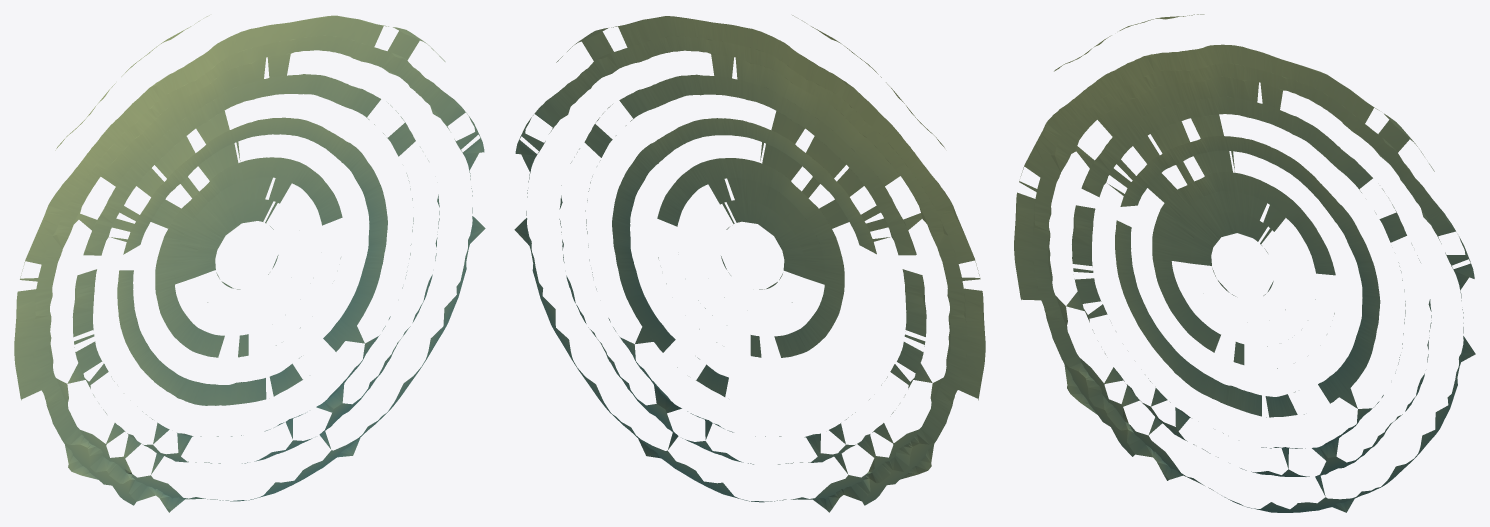
The model's file is iith-low-slope.glb.
The picture shows the model from 3 angles, left to right: view 1: azimuth 30°, elevation 25°; view 2: azimuth 150°, elevation 25°; view 3: azimuth 330°, elevation 25°; orthographic projection. The views are drawn at different scales.
Visible parts, largest first — view 1: geometry_0; view 2: geometry_0; view 3: geometry_0.
Part boxes in pixels (<box>): geometry_0: <box>14,15,485,512</box>; geometry_0: <box>514,15,985,512</box>; geometry_0: <box>1014,14,1475,512</box>.
Size of the model in its own units: 52.67 by 53.02 by 0.5201.
